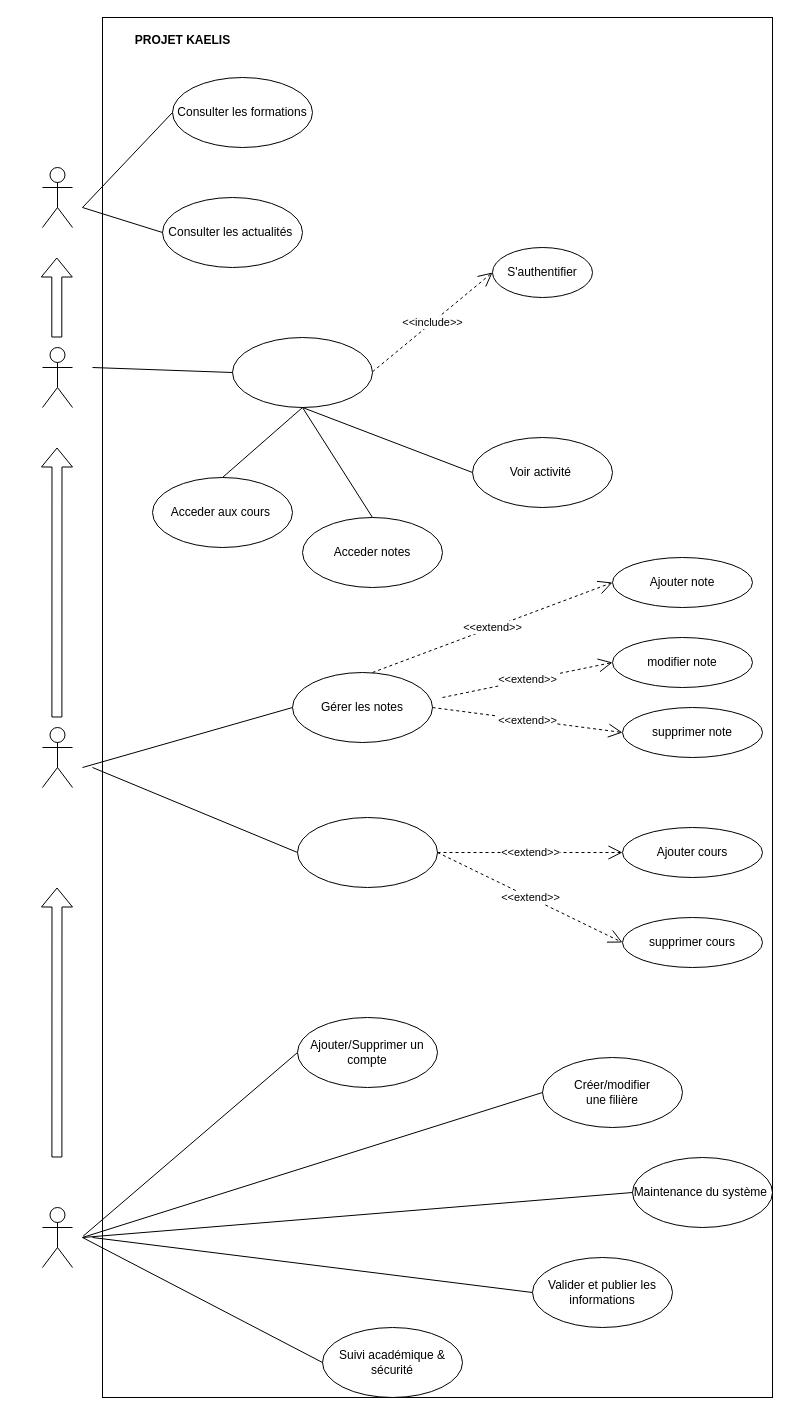
The diagram is 791 pixels wide and 1415 high, and some of its shapes have lost their labels. The centre of each missing label's shape, as x and y in pixels:
"Administrateur" belongs at pixel 57 1237.
"Enseignant" belongs at pixel 57 757.
"Etudiant" belongs at pixel 57 377.
"Gérer les cours" belongs at pixel 367 852.
"Se connecter" belongs at pixel 302 372.
"Visiteur" belongs at pixel 57 197.
